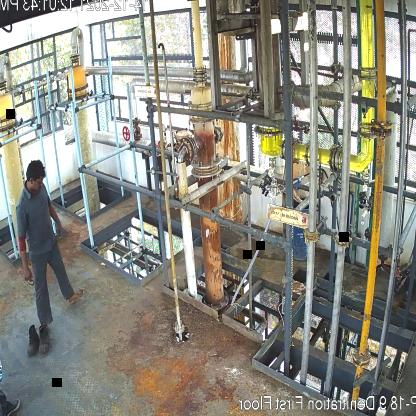no_shoes: (65, 286, 85, 308)
shoes: (26, 325, 38, 356), (39, 324, 50, 354)
